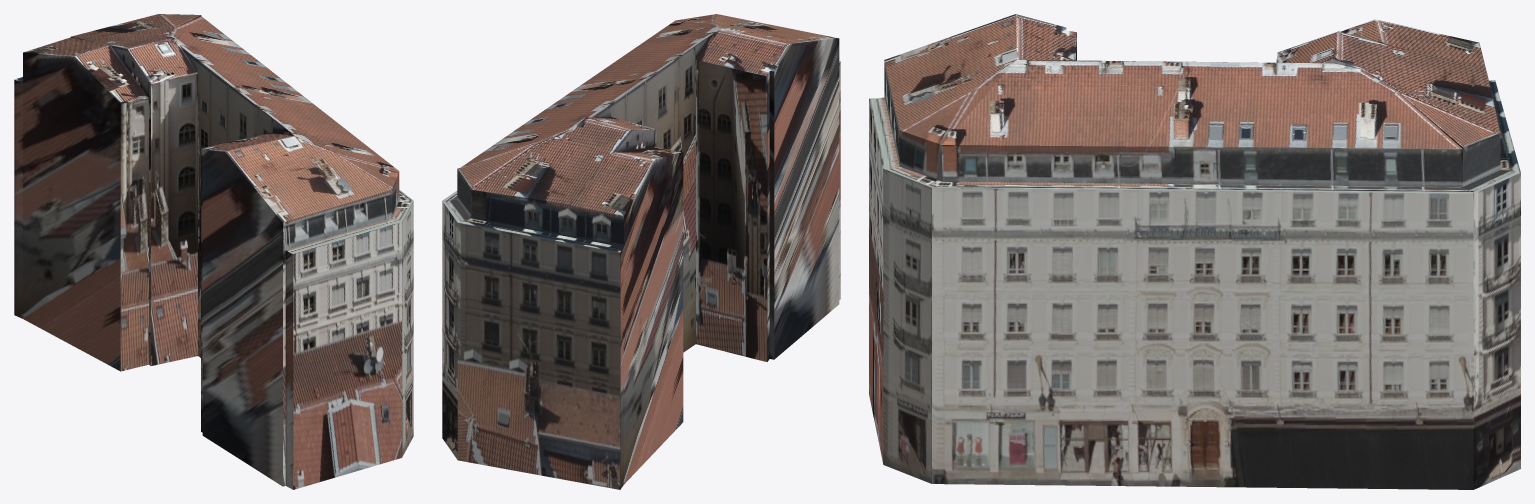
3 renders of one model, left to right at view 1: azimuth 30°, elevation 25°; view 2: azimuth 150°, elevation 25°; view 3: azimuth 270°, elevation 25°, orthographic. The views are drawn at different scales.
Parts seen in each view (by area): view 1: Z_UP; view 2: Z_UP; view 3: Z_UP.
Part boxes in pixels (bbox=[...]): Z_UP: bbox=[14, 14, 413, 489]; Z_UP: bbox=[442, 14, 840, 489]; Z_UP: bbox=[869, 14, 1520, 489].
Bounding box in the file's own units: 16.94 × 26.16 × 41.04.
Materials: 2 (1 with a texture image).
